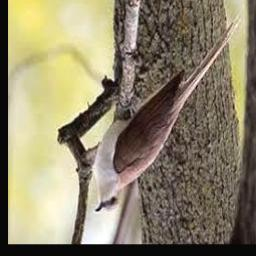Cuckoo: (94, 15, 242, 213)
